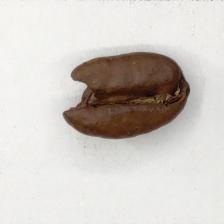NG: (61, 70, 98, 124)
